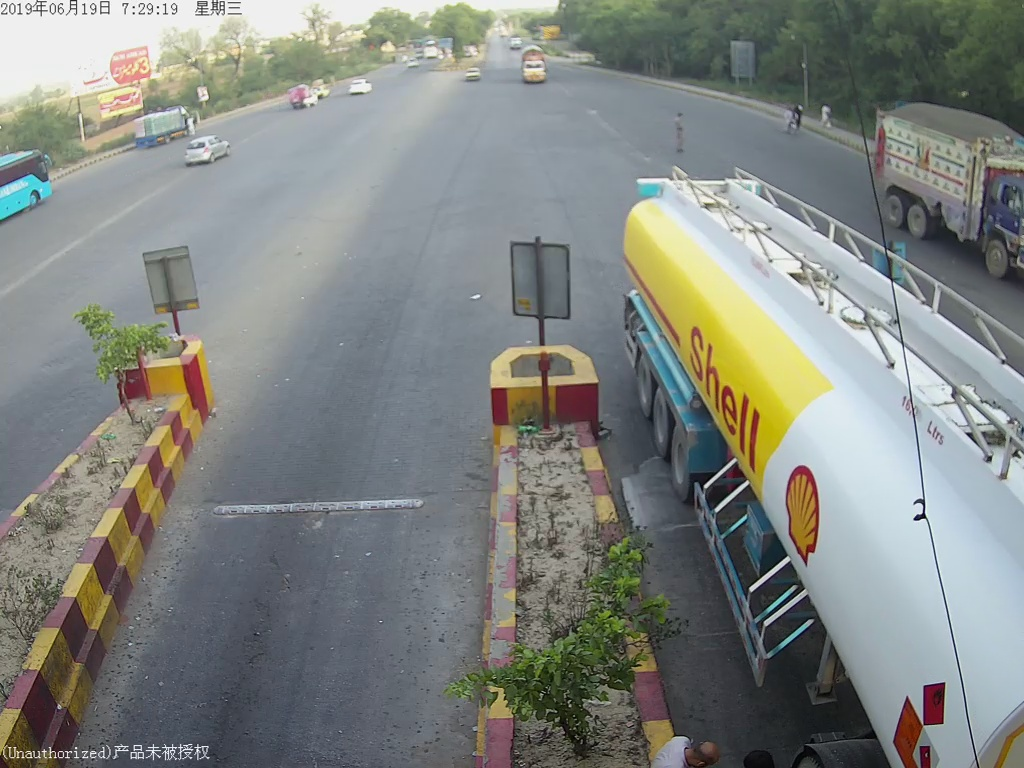Cat-4: (517, 50, 553, 83)
